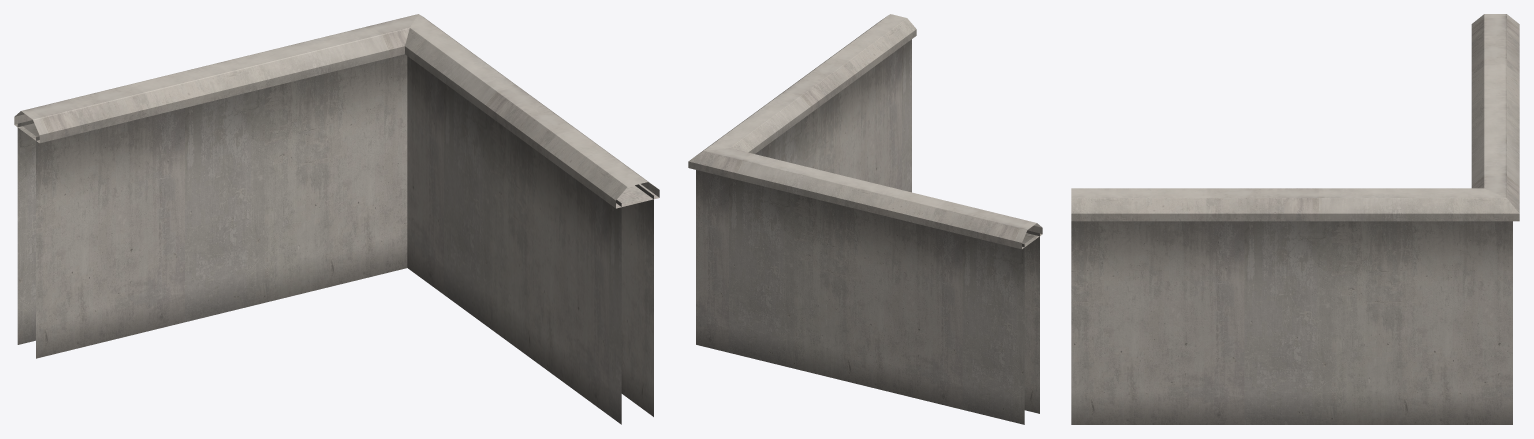
Rendered from weiqiang_03.FBX.
3 renders of one model, left to right at view 1: azimuth 30°, elevation 25°; view 2: azimuth 150°, elevation 25°; view 3: azimuth 270°, elevation 25°, orthographic. The views are drawn at different scales.
Parts seen in each view (by area): view 1: weiqiang_03; view 2: weiqiang_03; view 3: weiqiang_03.
Part boxes in pixels (x1,y1,x2,y2): weiqiang_03: [14, 14, 659, 424]; weiqiang_03: [688, 14, 1042, 424]; weiqiang_03: [1071, 14, 1519, 424].
Bounding box in the file's own units: 713 × 394 × 713.
